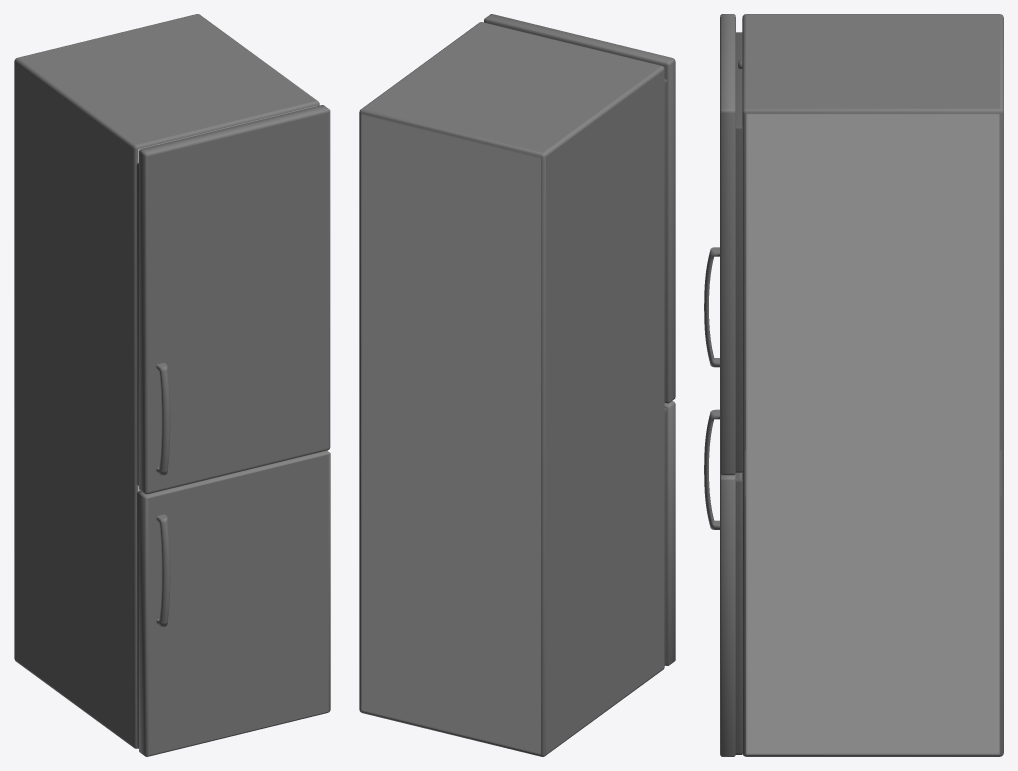
The model's file is refrigerator.fbx.
The picture shows the model from 3 angles, left to right: view 1: azimuth 30°, elevation 25°; view 2: azimuth 150°, elevation 25°; view 3: azimuth 270°, elevation 25°; orthographic projection. The views are drawn at different scales.
Visible parts, largest first — view 1: refrigerator; view 2: refrigerator; view 3: refrigerator.
Part boxes in pixels (<box>): refrigerator: <box>14,14,330,756</box>; refrigerator: <box>359,14,675,756</box>; refrigerator: <box>704,14,1003,756</box>.
Size of the model in its own units: 81.45 by 253 by 106.
